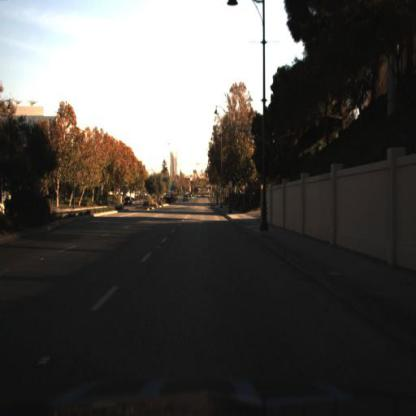car: (180, 190, 192, 208), (122, 194, 135, 208), (124, 196, 134, 211)
